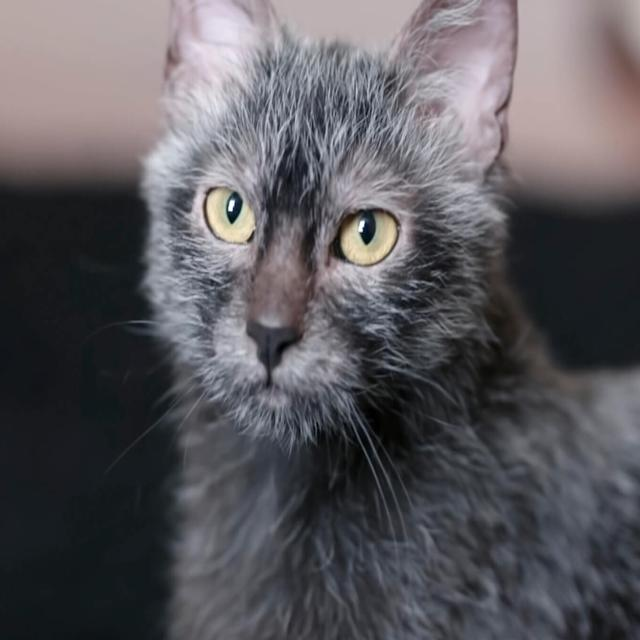Lykoi: (134, 0, 640, 640)
